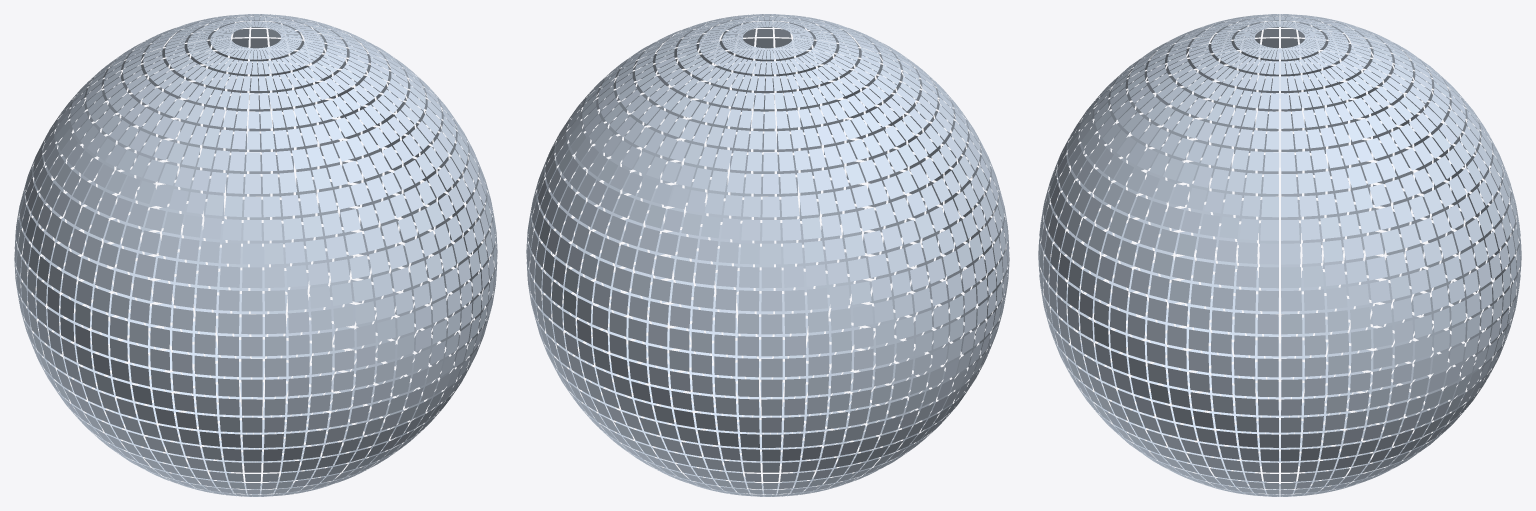
Rendered from disco-ball.glb.
3 renders of one model, left to right at view 1: azimuth 30°, elevation 25°; view 2: azimuth 150°, elevation 25°; view 3: azimuth 270°, elevation 25°, orthographic.
Visible parts, largest first — view 1: Disco mirror facets; view 2: Disco mirror facets; view 3: Disco mirror facets.
Part boxes in pixels (box(x1,y1,x2,y2)): Disco mirror facets: box(14, 14, 497, 496); Disco mirror facets: box(526, 14, 1009, 496); Disco mirror facets: box(1038, 14, 1521, 496).
Bounding box in the file's own units: 2 × 1.99 × 2.
